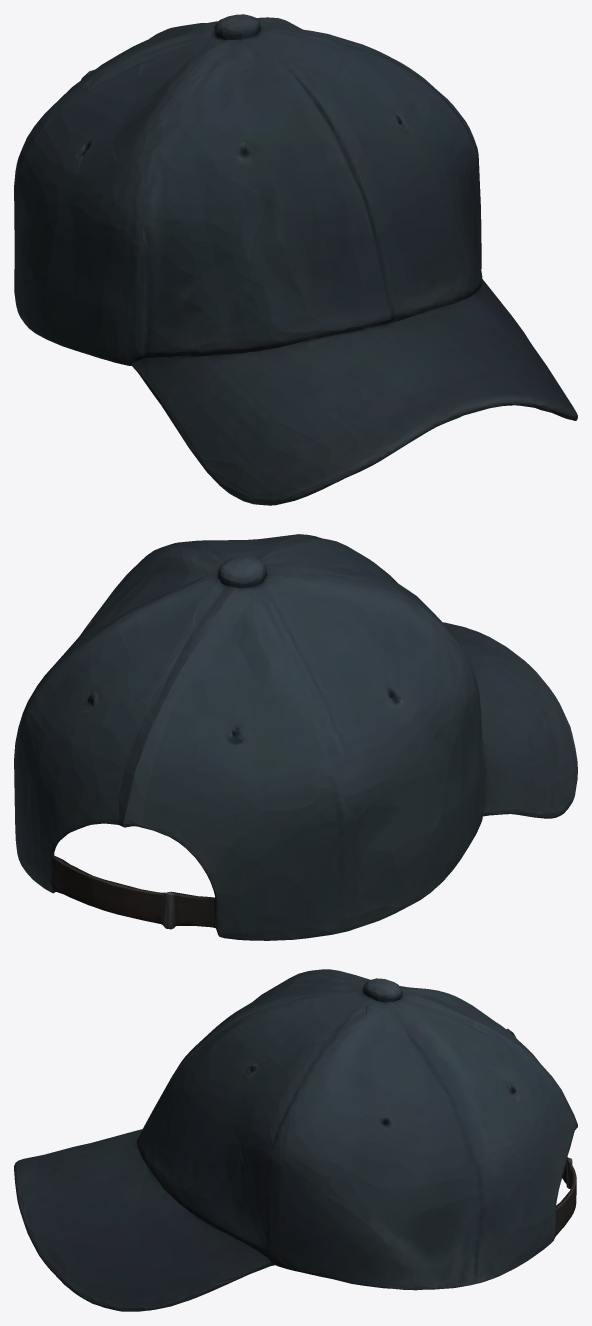
File: cap.glb
3 renders of one model, top to bottom at view 1: azimuth 30°, elevation 25°; view 2: azimuth 150°, elevation 25°; view 3: azimuth 270°, elevation 25°, orthographic. The views are drawn at different scales.
Visible parts, largest first — view 1: geometry_0; view 2: geometry_0; view 3: geometry_0.
Boxes of the visible parts, box(x1,y1,x2,y2) form: geometry_0: box(14, 14, 577, 505); geometry_0: box(14, 534, 577, 940); geometry_0: box(14, 969, 577, 1311).
Bounding box in the file's own units: 0.6674 × 0.5227 × 0.9977.
1 material, 1 textured.
